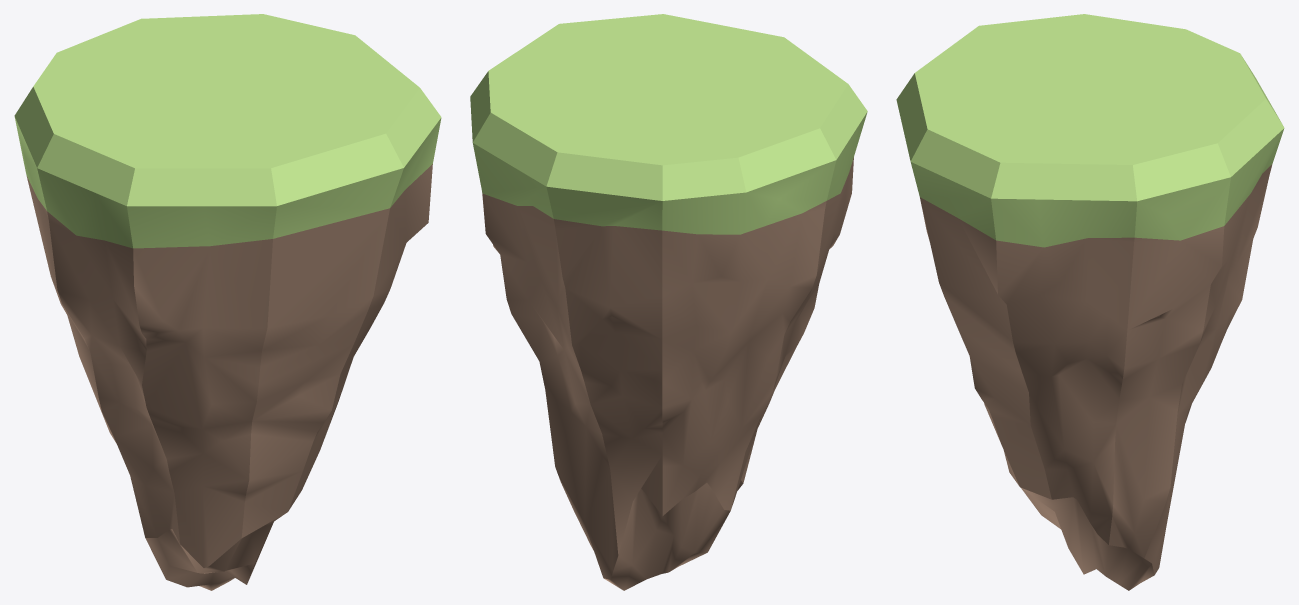
Rendered from tile_3_3.fbx.
3 views of the same model, side by side, from view 1: azimuth 30°, elevation 25°; view 2: azimuth 150°, elevation 25°; view 3: azimuth 270°, elevation 25° (orthographic). The views are drawn at different scales.
Parts seen in each view (by area): view 1: Jump_Map_Tiles_3; view 2: Jump_Map_Tiles_3; view 3: Jump_Map_Tiles_3.
Boxes of the visible parts, x1,y1,x2,y2 form: Jump_Map_Tiles_3: (14,14,441,590); Jump_Map_Tiles_3: (470,14,867,590); Jump_Map_Tiles_3: (896,14,1284,590).
Size of the model in its own units: 4 by 5.45 by 3.93.
